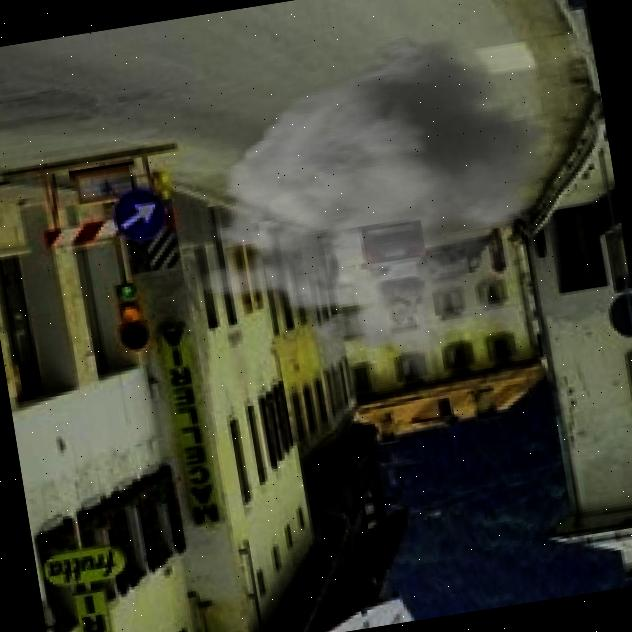smoke: (157, 12, 597, 415)
